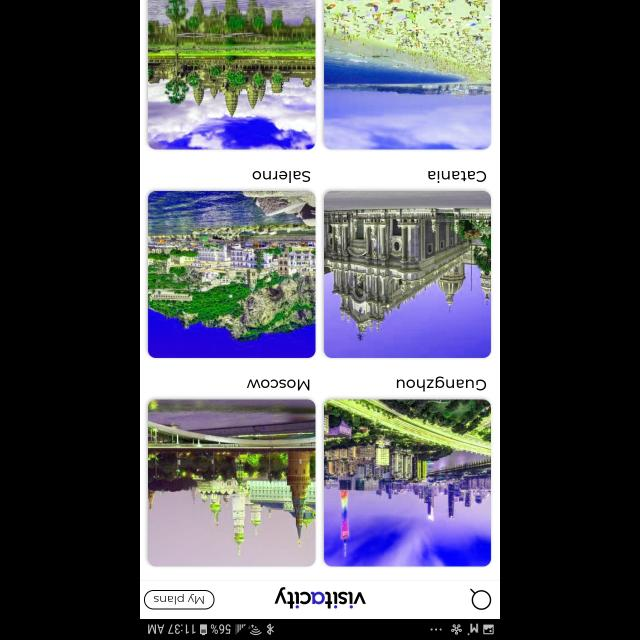icon: (469, 588, 491, 610)
image: (148, 190, 316, 358), (324, 190, 491, 358), (148, 399, 316, 566), (324, 399, 491, 566), (148, 0, 316, 150), (324, 0, 491, 150), (274, 586, 366, 608)
text: (396, 376, 486, 392), (247, 379, 310, 391), (252, 170, 310, 183), (428, 170, 486, 183)
textbutton: (144, 589, 216, 609)
uppertaskbar: (140, 619, 500, 639)
